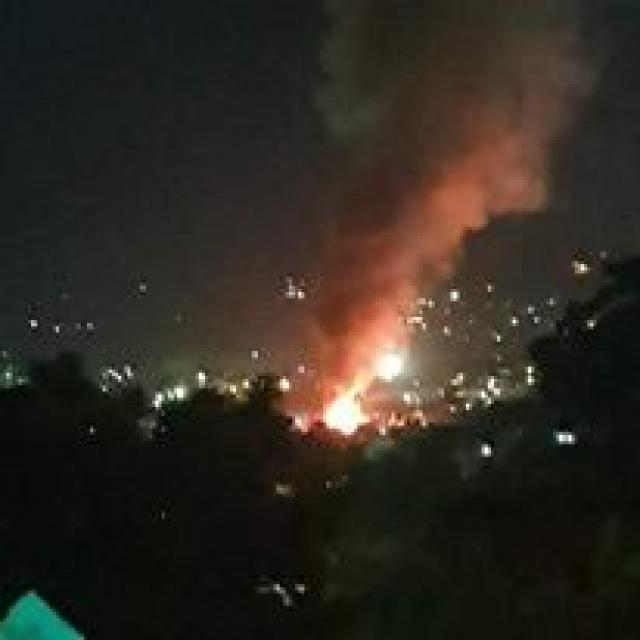Fire: (302, 374, 373, 436)
Smoke: (289, 0, 609, 407)
